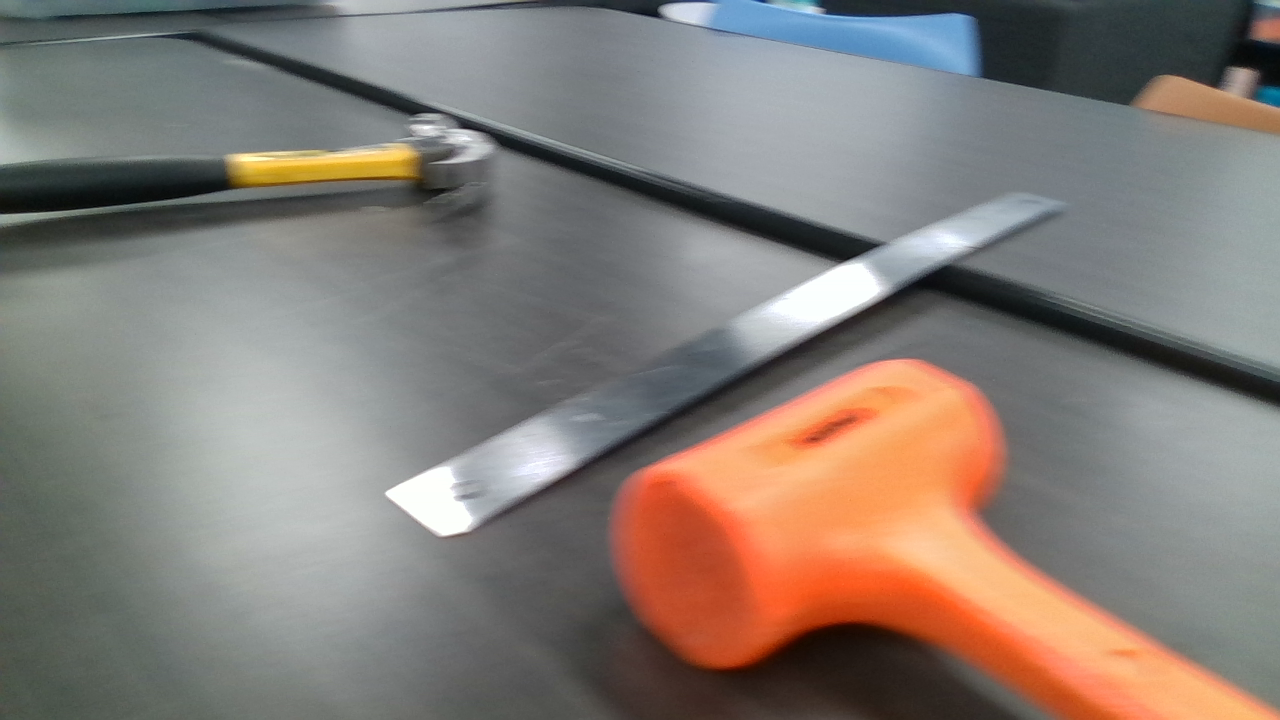Orange Hammer: (611, 356, 1275, 718)
